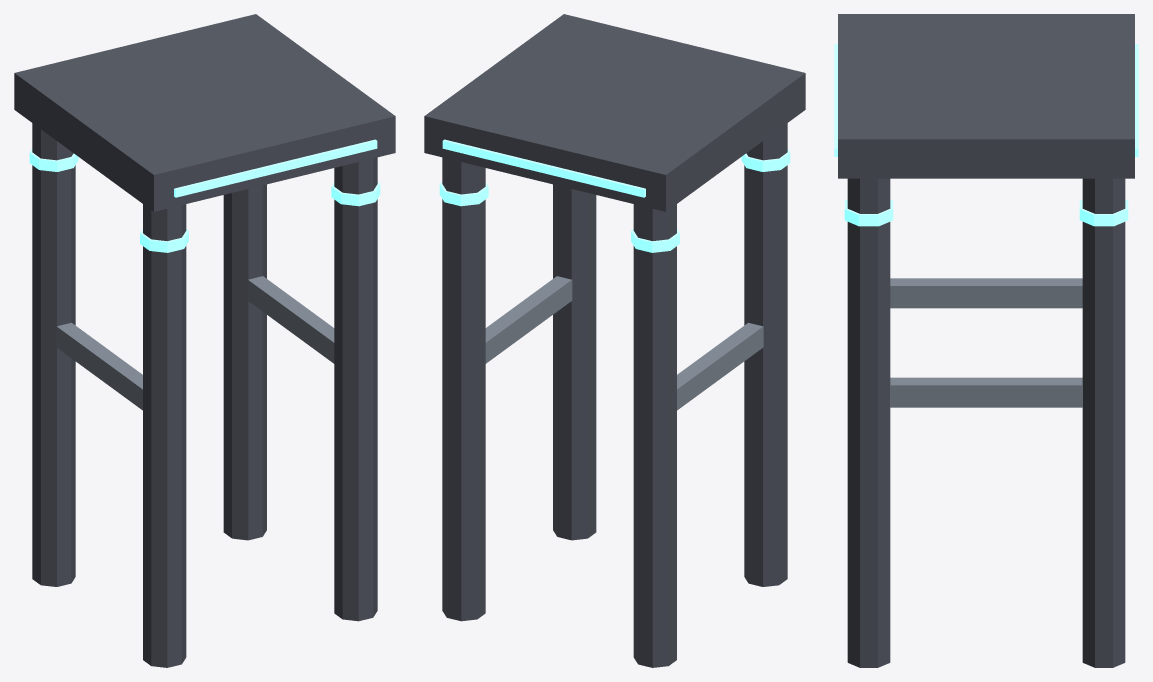
File: plataforma_agua_sem_textura.glb
The picture shows the model from 3 angles, left to right: view 1: azimuth 30°, elevation 25°; view 2: azimuth 150°, elevation 25°; view 3: azimuth 270°, elevation 25°; orthographic projection. The views are drawn at different scales.
Parts seen in each view (by area): view 1: plataforma_agua; view 2: plataforma_agua; view 3: plataforma_agua.
Boxes of the visible parts, x1,y1,x2,y2 form: plataforma_agua: (14,14,395,667); plataforma_agua: (424,14,805,667); plataforma_agua: (834,14,1138,667).
Bounding box in the file's own units: 0.96 × 1.9 × 0.984.
